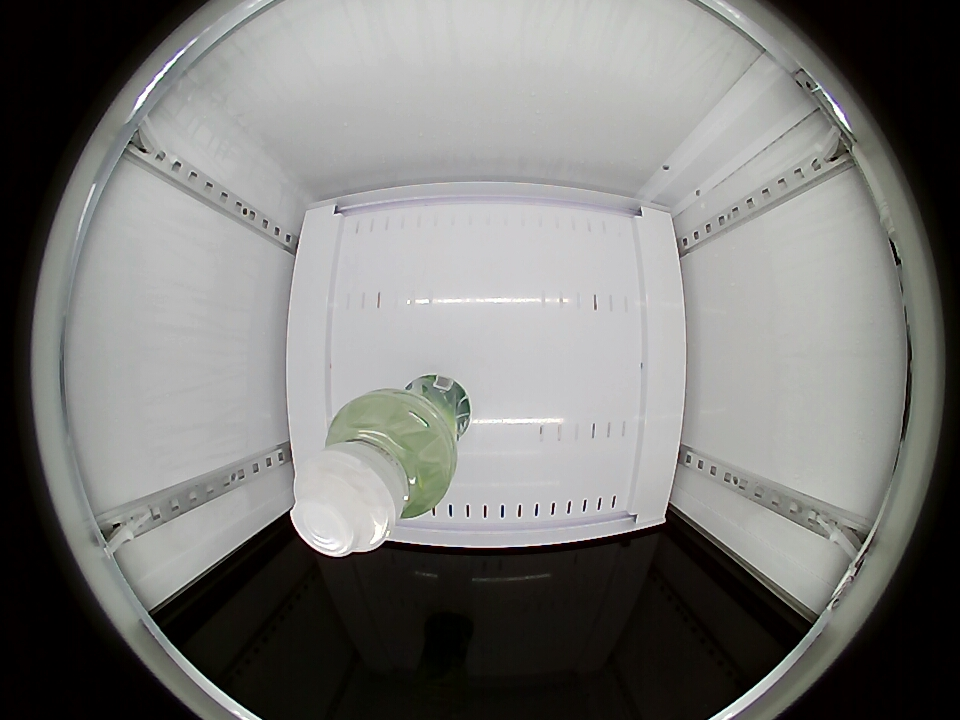jianjiao: (290, 394, 450, 558)
